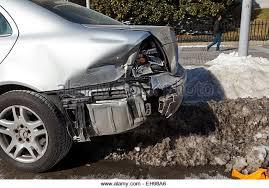quaterpanel-dent: (21, 26, 128, 89)
rear-bumper-dent: (107, 89, 174, 130)
